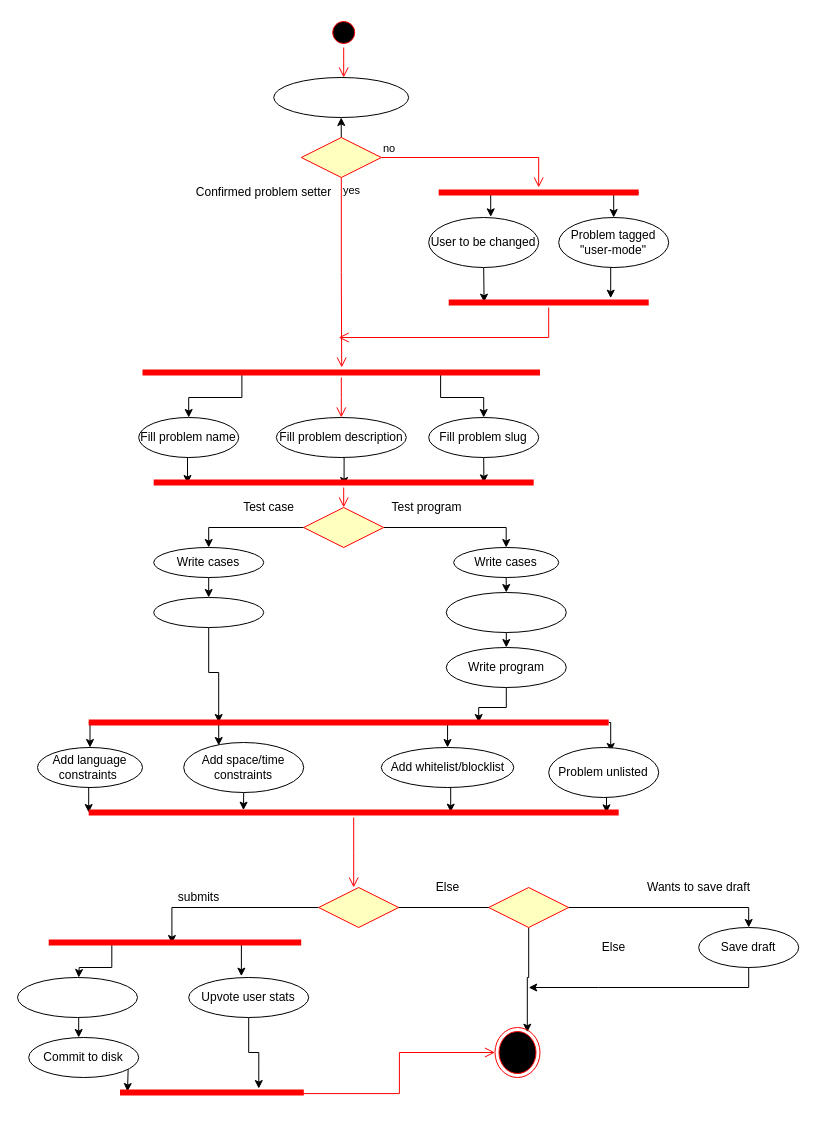
This 817x1122 diagram has some shape labels left out. Here are the shapes that lost their labels. From the top down, the centre of each, then its label:
At [341,97]: "Go to create problem".
At [208,612]: "Write answers".
At [505,612]: "Select language".
At [77,997]: "Add problem".
